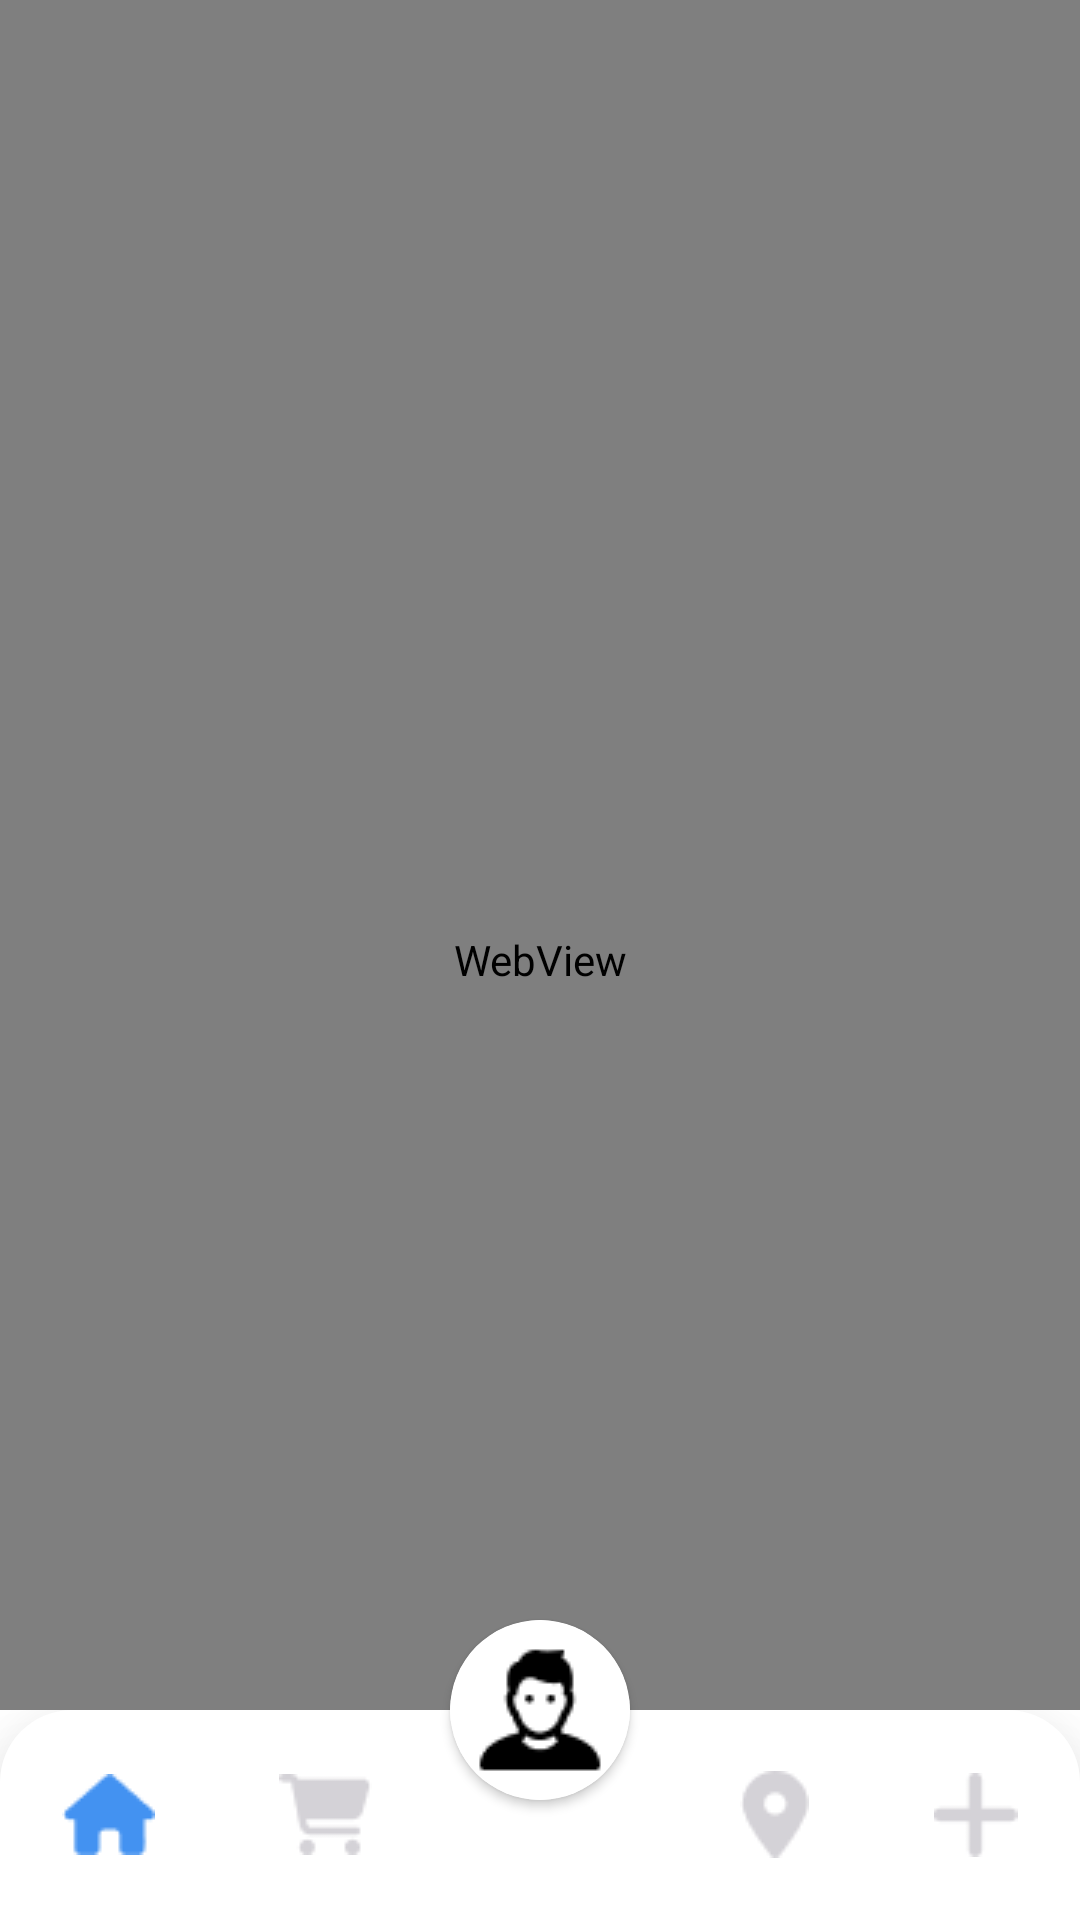

Named icons in this screenshot (1080px×1920px) and their centers, (x,y):
anuncio: (976,1815)
estabelecimento cinza: (776,1814)
home azul: (109,1814)
perfil home: (540,1710)
